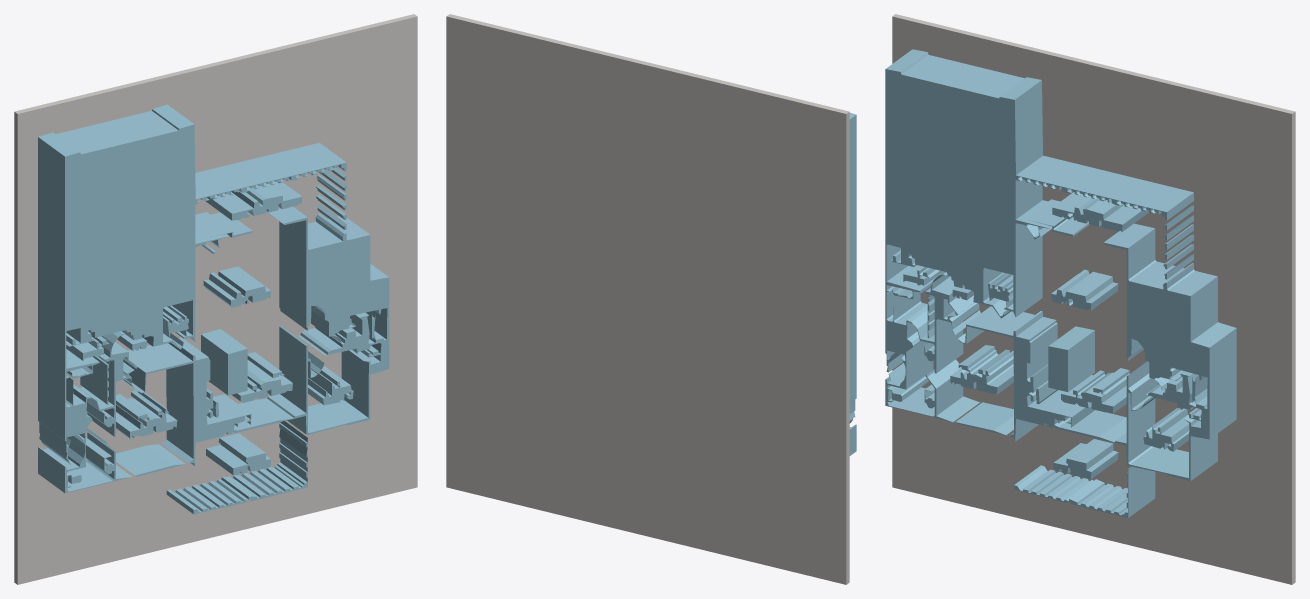
3 renders of one model, left to right at view 1: azimuth 30°, elevation 25°; view 2: azimuth 150°, elevation 25°; view 3: azimuth 330°, elevation 25°, orthographic.
Visible parts, largest first — view 1: world; view 2: world; view 3: world.
Part boxes in pixels (x1,y1,x2,y2): world: (14, 14, 417, 584); world: (446, 14, 856, 584); world: (885, 14, 1295, 584).
Bounding box in the file's own units: 10.23 × 11.51 × 1.35.
